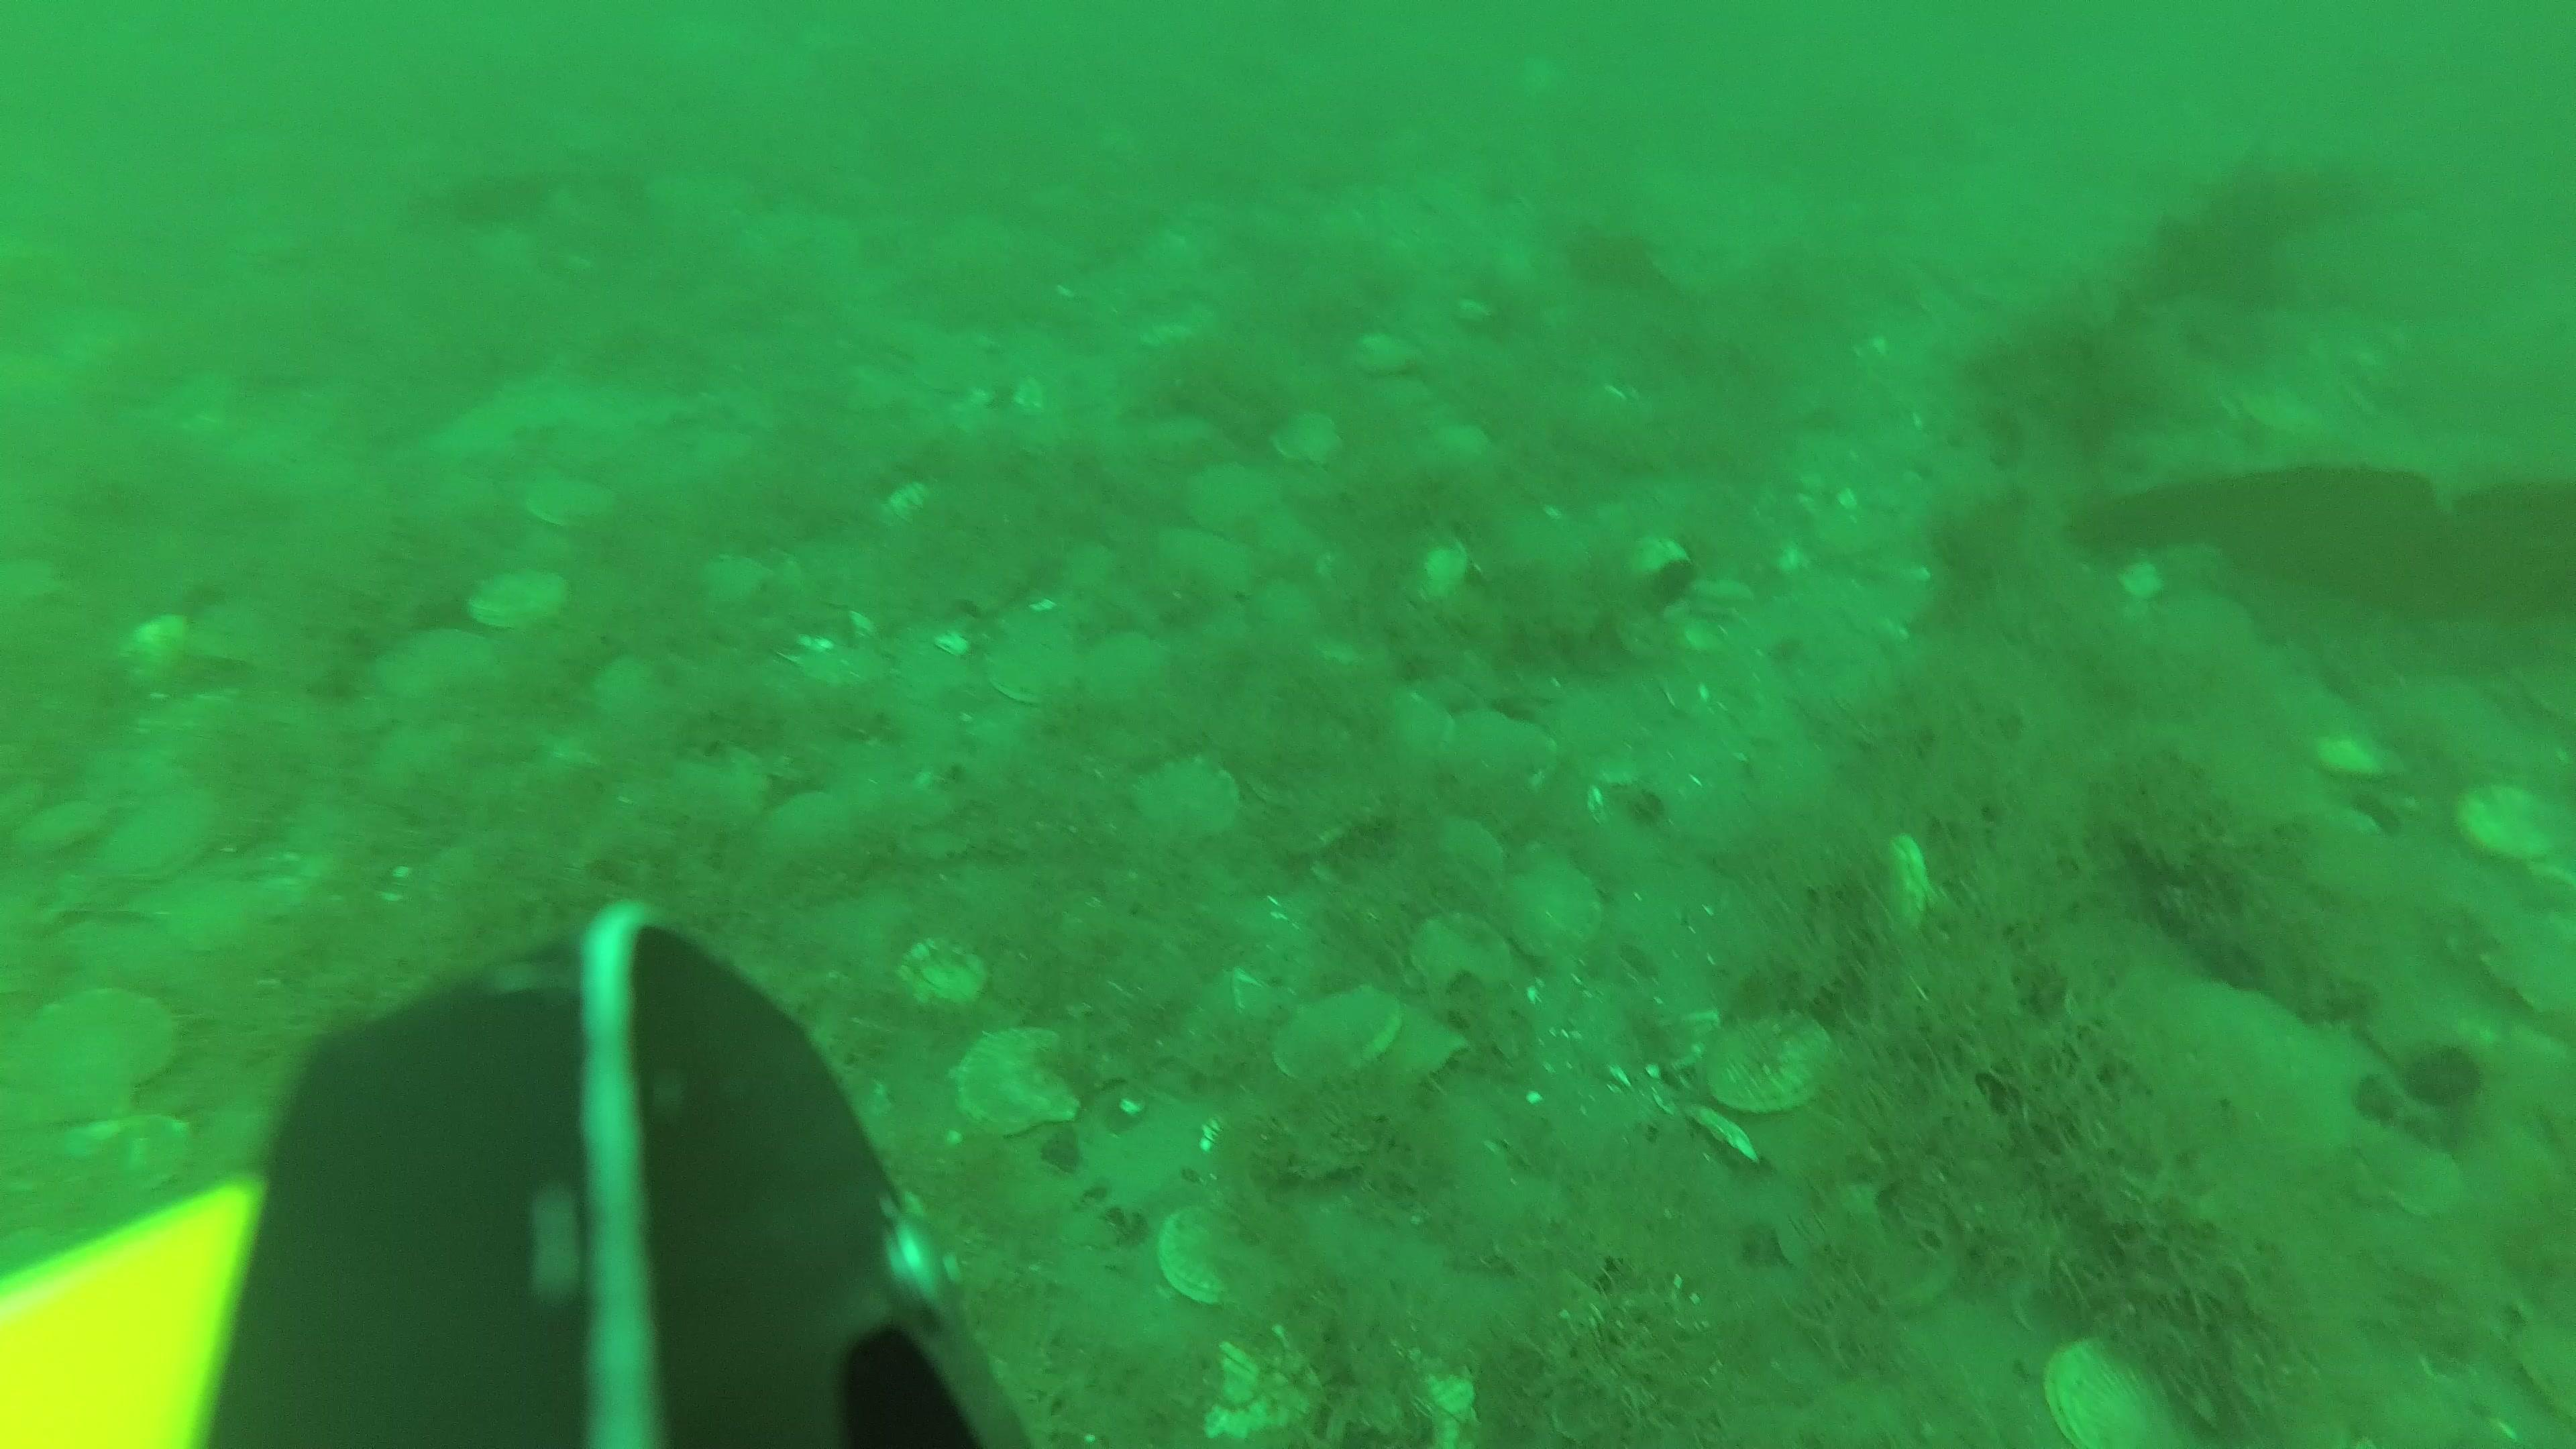scallop: (2116, 968, 2350, 1180), (12, 1000, 177, 1113), (2045, 1336, 2185, 1449), (1693, 1012, 1829, 1118), (1493, 862, 1614, 970), (955, 1039, 1076, 1145), (108, 793, 230, 893), (1269, 989, 1396, 1083), (1161, 1214, 1263, 1315), (2457, 782, 2576, 867), (1431, 711, 1546, 798), (2141, 586, 2252, 669), (899, 936, 1003, 1016), (1134, 755, 1228, 844), (1069, 623, 1159, 711), (982, 625, 1074, 708), (1184, 449, 1274, 533), (472, 570, 577, 630), (21, 796, 113, 858), (1405, 518, 1463, 609), (529, 474, 614, 536), (1276, 410, 1348, 472)
